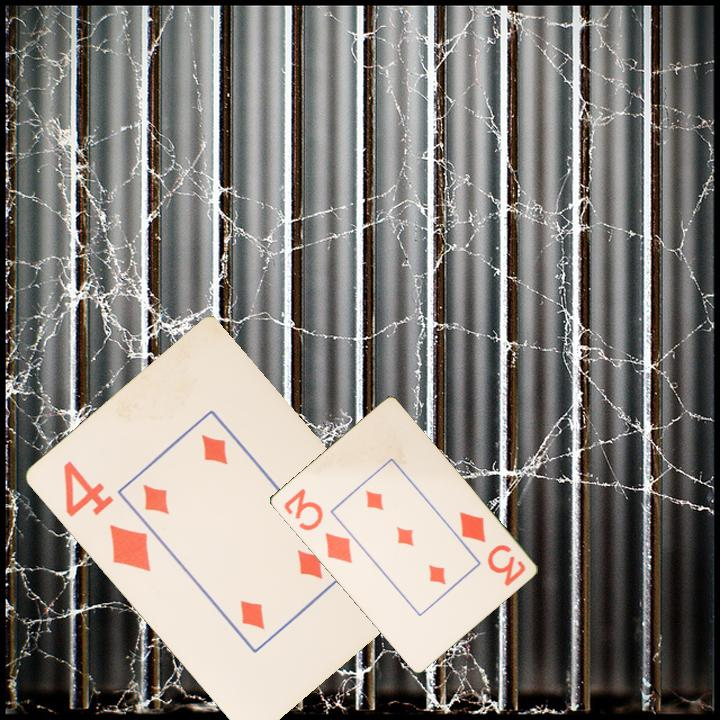3d: (280, 485, 355, 566), (455, 508, 528, 589)
4d: (59, 457, 153, 575)
